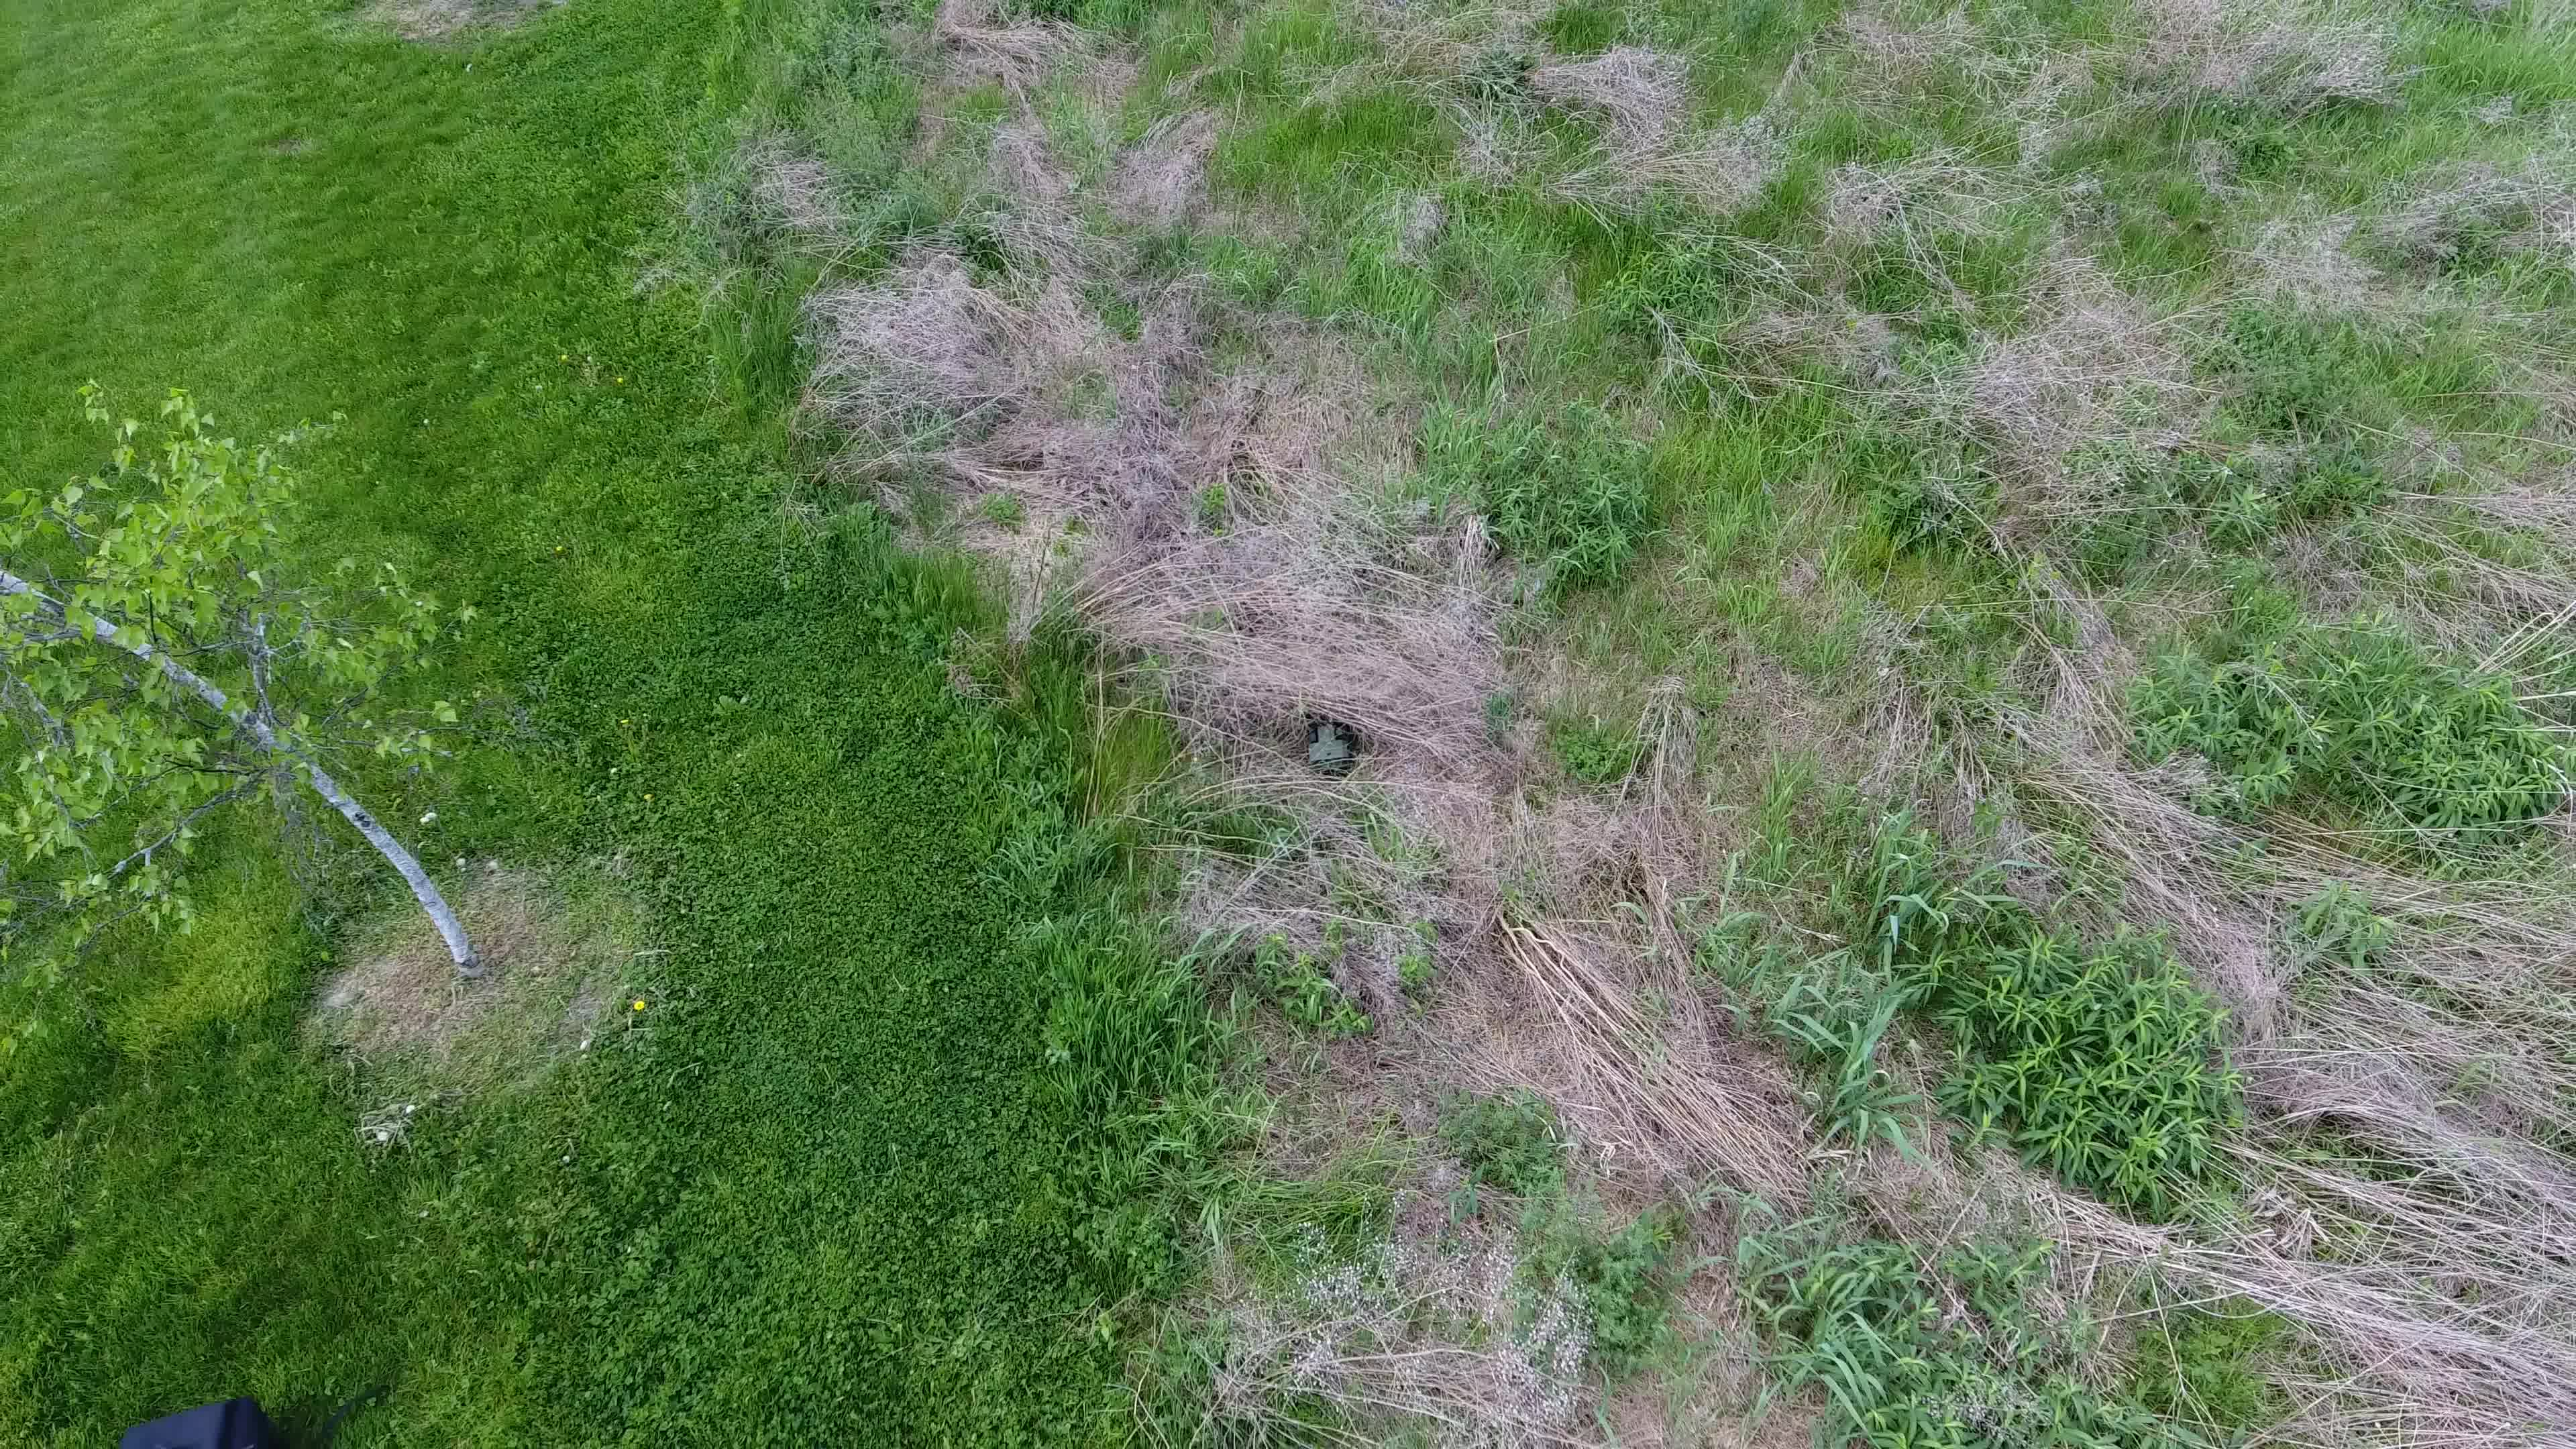transporter9: (1295, 704, 1355, 770)
